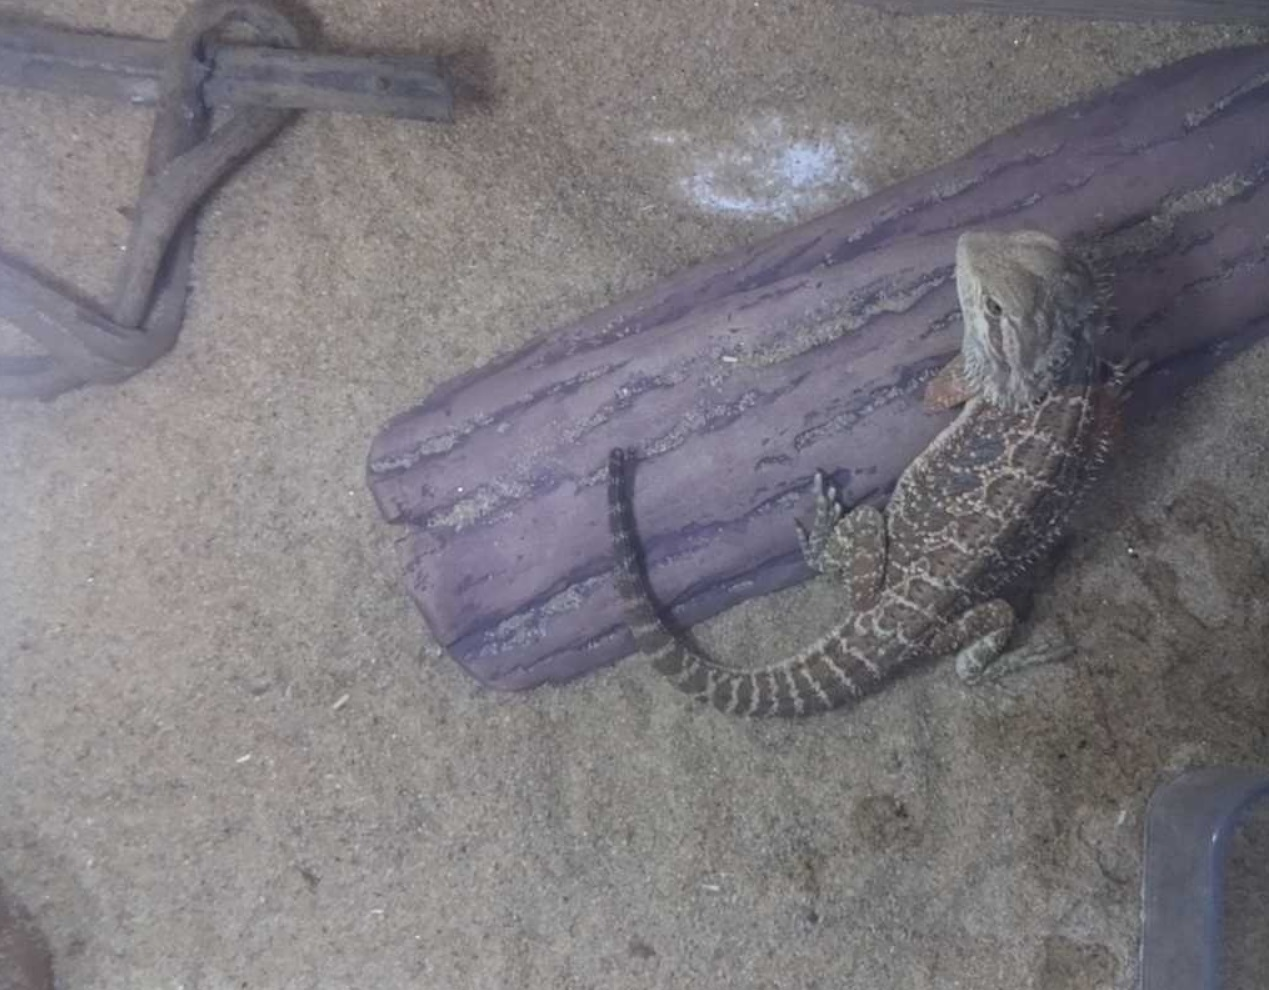bearded: (604, 225, 1146, 730)
